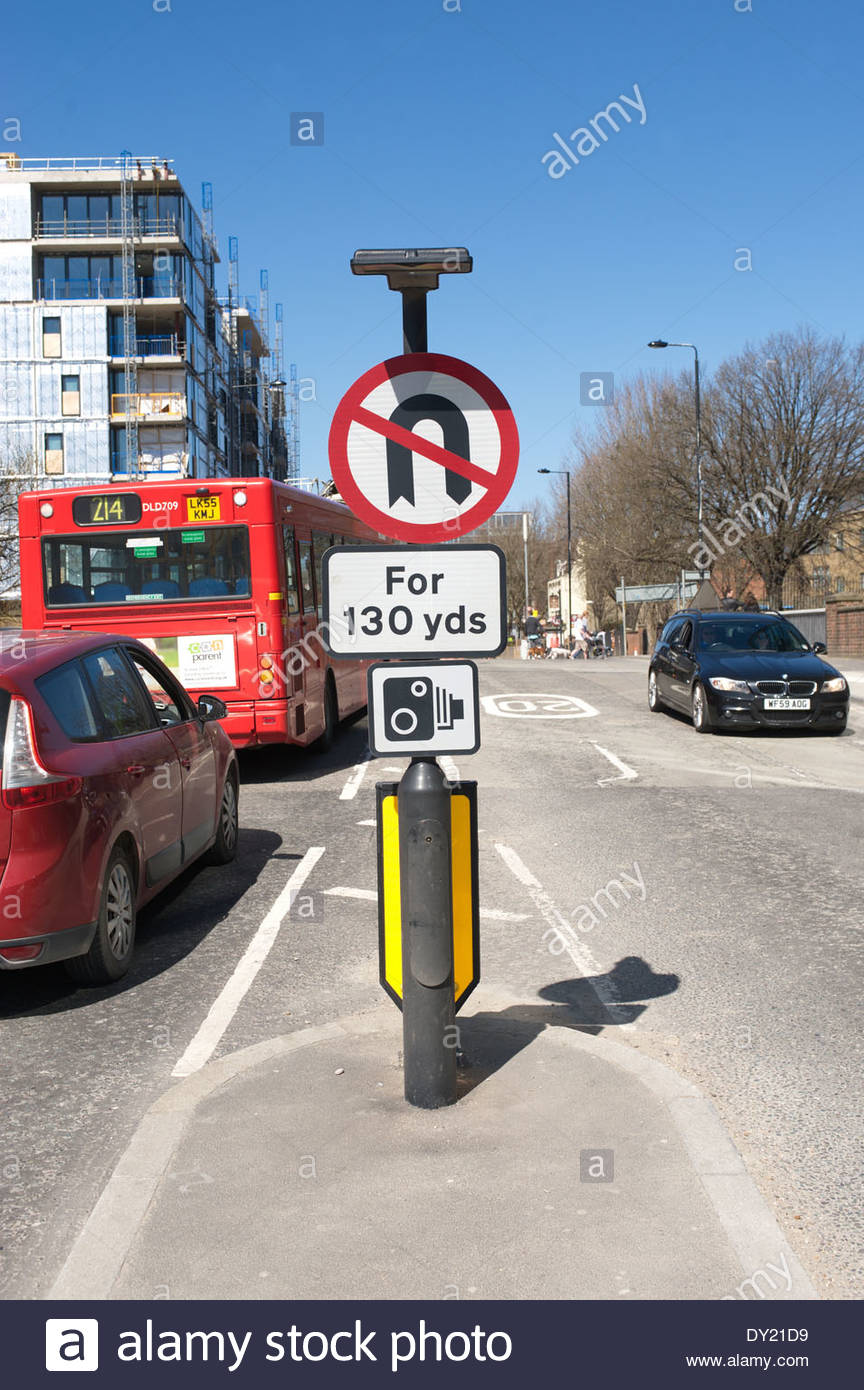No_u_turn: (329, 352, 521, 543)
